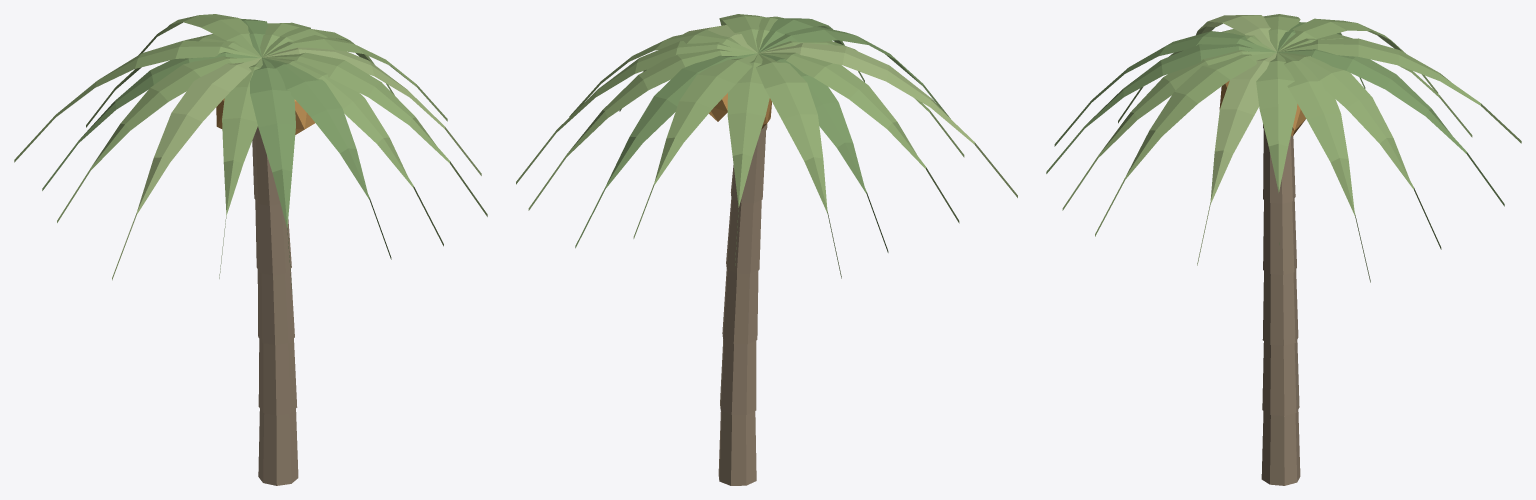
The model's file is DatePalmB.glb.
3 views of the same model, side by side, from view 1: azimuth 30°, elevation 25°; view 2: azimuth 150°, elevation 25°; view 3: azimuth 270°, elevation 25° (orthographic). The views are drawn at different scales.
Parts seen in each view (by area): view 1: Frond.027, Frond.025, Frond.028, Frond.026, Frond.024, Frond.030, Limb.074, Limb.075, Frond.029, Limb.076, Limb.077, Frond.022 (+8 smaller); view 2: Frond.022, Frond.020, Frond.021, Frond.024, Frond.025, Frond.019, Limb.074, Frond.018, Limb.075, Limb.076, Frond.023, Limb.077 (+6 smaller); view 3: Frond.017, Frond.030, Frond.031, Frond.018, Frond.016, Frond.019, Limb.074, Limb.075, Limb.076, Frond.020, Limb.077, Frond.028 (+7 smaller).
Boxes of the visible parts, box(x1,y1,x2,y2) form: Frond.027: box(250, 58, 295, 293); Frond.025: box(112, 58, 261, 280); Frond.028: box(263, 58, 391, 259); Frond.026: box(219, 58, 262, 278); Frond.024: box(57, 56, 261, 222); Frond.030: box(264, 52, 487, 216); Limb.074: box(258, 409, 298, 485); Limb.075: box(258, 338, 297, 415); Frond.029: box(263, 57, 443, 246); Limb.076: box(257, 269, 294, 345); Limb.077: box(255, 200, 291, 275); Frond.022: box(14, 40, 260, 162); Frond.022: box(756, 53, 841, 278); Frond.020: box(633, 53, 757, 238); Frond.021: box(727, 53, 769, 265); Frond.024: box(760, 52, 959, 223); Frond.025: box(759, 43, 1017, 197); Frond.019: box(575, 53, 756, 248); Limb.074: box(718, 410, 756, 485); Frond.018: box(528, 49, 756, 210); Limb.075: box(720, 340, 756, 414); Limb.076: box(722, 269, 758, 344); Frond.023: box(759, 53, 888, 252); Limb.077: box(726, 198, 761, 273); Frond.017: box(1277, 52, 1370, 282); Frond.030: box(1095, 52, 1276, 236); Frond.031: box(1197, 52, 1276, 265); Frond.018: box(1278, 52, 1441, 249); Frond.016: box(1256, 52, 1297, 244); Frond.019: box(1279, 49, 1504, 206); Limb.074: box(1261, 410, 1300, 485); Limb.075: box(1262, 340, 1299, 415); Limb.076: box(1262, 269, 1298, 345); Frond.020: box(1278, 38, 1521, 143); Limb.077: box(1263, 199, 1296, 274); Frond.028: box(1046, 43, 1275, 173).
Size of the model in its own units: 5.7 by 5.96 by 6.03.
